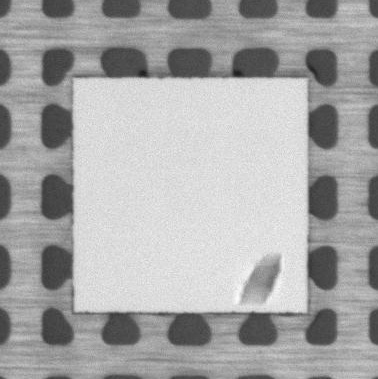DIE_INK: (228, 251, 286, 309)
